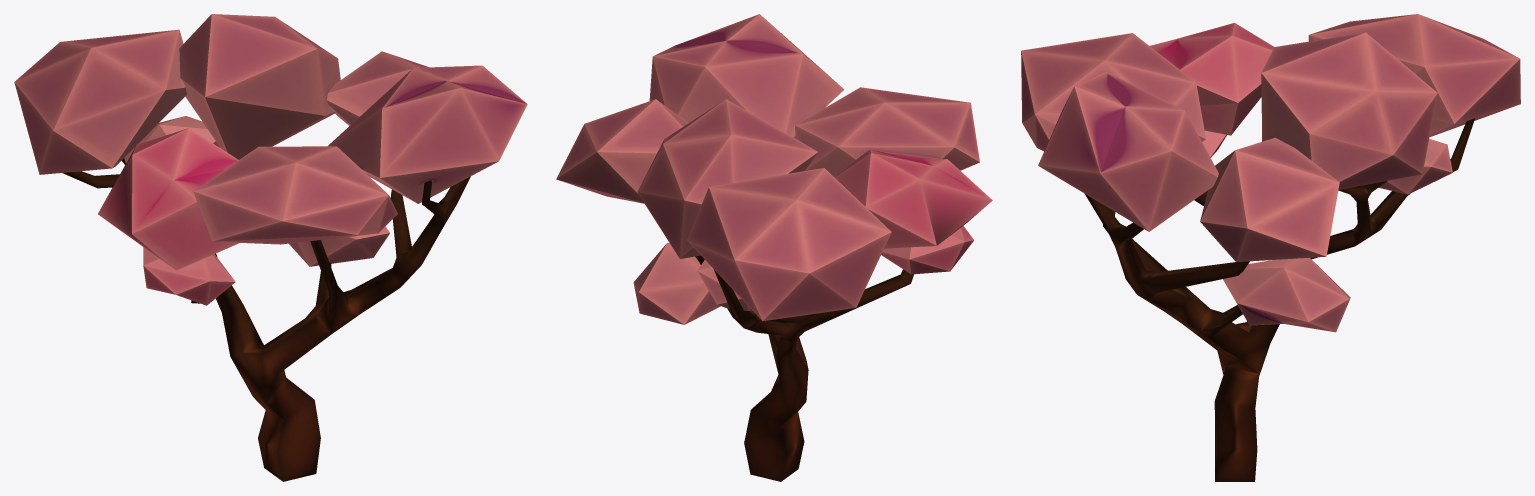
Rendered from Cherry_Blossom_Tree_b.gltf.
3 renders of one model, left to right at view 1: azimuth 30°, elevation 25°; view 2: azimuth 150°, elevation 25°; view 3: azimuth 270°, elevation 25°, orthographic. The views are drawn at different scales.
Visible parts, largest first — view 1: Cherry_Blossom_Tree_Model_02; view 2: Cherry_Blossom_Tree_Model_02; view 3: Cherry_Blossom_Tree_Model_02.
Boxes of the visible parts, x1,y1,x2,y2 form: Cherry_Blossom_Tree_Model_02: (14,14,527,481); Cherry_Blossom_Tree_Model_02: (556,14,992,481); Cherry_Blossom_Tree_Model_02: (1021,14,1520,481).
Bounding box in the file's own units: 2.93 × 2.93 × 3.06.
Materials: 1 (1 with a texture image).
